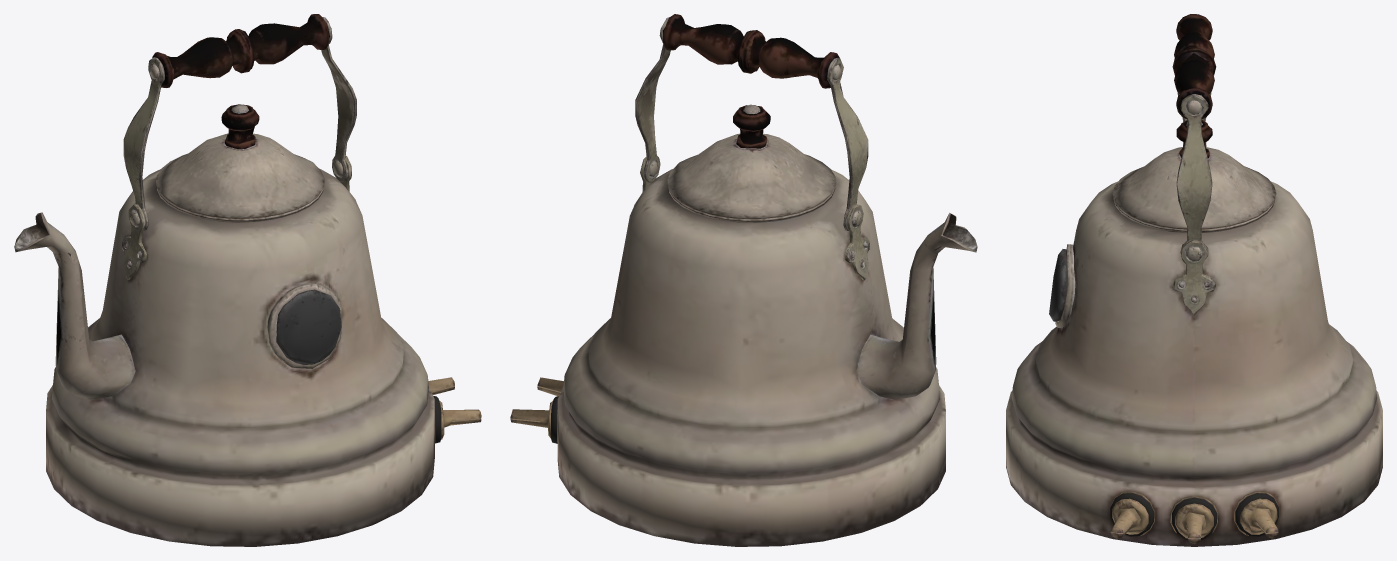
Rendered from vintage_electric_kettle.glb.
The picture shows the model from 3 angles, left to right: view 1: azimuth 30°, elevation 25°; view 2: azimuth 150°, elevation 25°; view 3: azimuth 270°, elevation 25°; orthographic projection. The views are drawn at different scales.
Parts seen in each view (by area): view 1: vintage_electric_kettle; view 2: vintage_electric_kettle; view 3: vintage_electric_kettle.
Part boxes in pixels (bbox=[...]): vintage_electric_kettle: bbox=[14, 14, 481, 546]; vintage_electric_kettle: bbox=[510, 14, 977, 546]; vintage_electric_kettle: bbox=[1006, 14, 1382, 546].
Bounding box in the file's own units: 0.3209 × 0.3044 × 0.2478.
2 materials, 2 textured.
